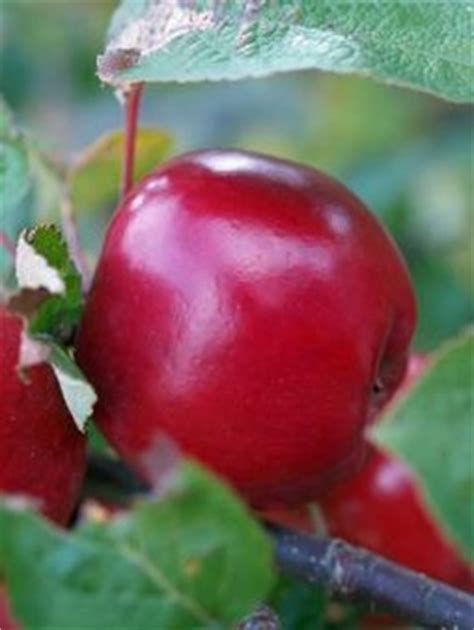apple: (62, 142, 421, 513)
